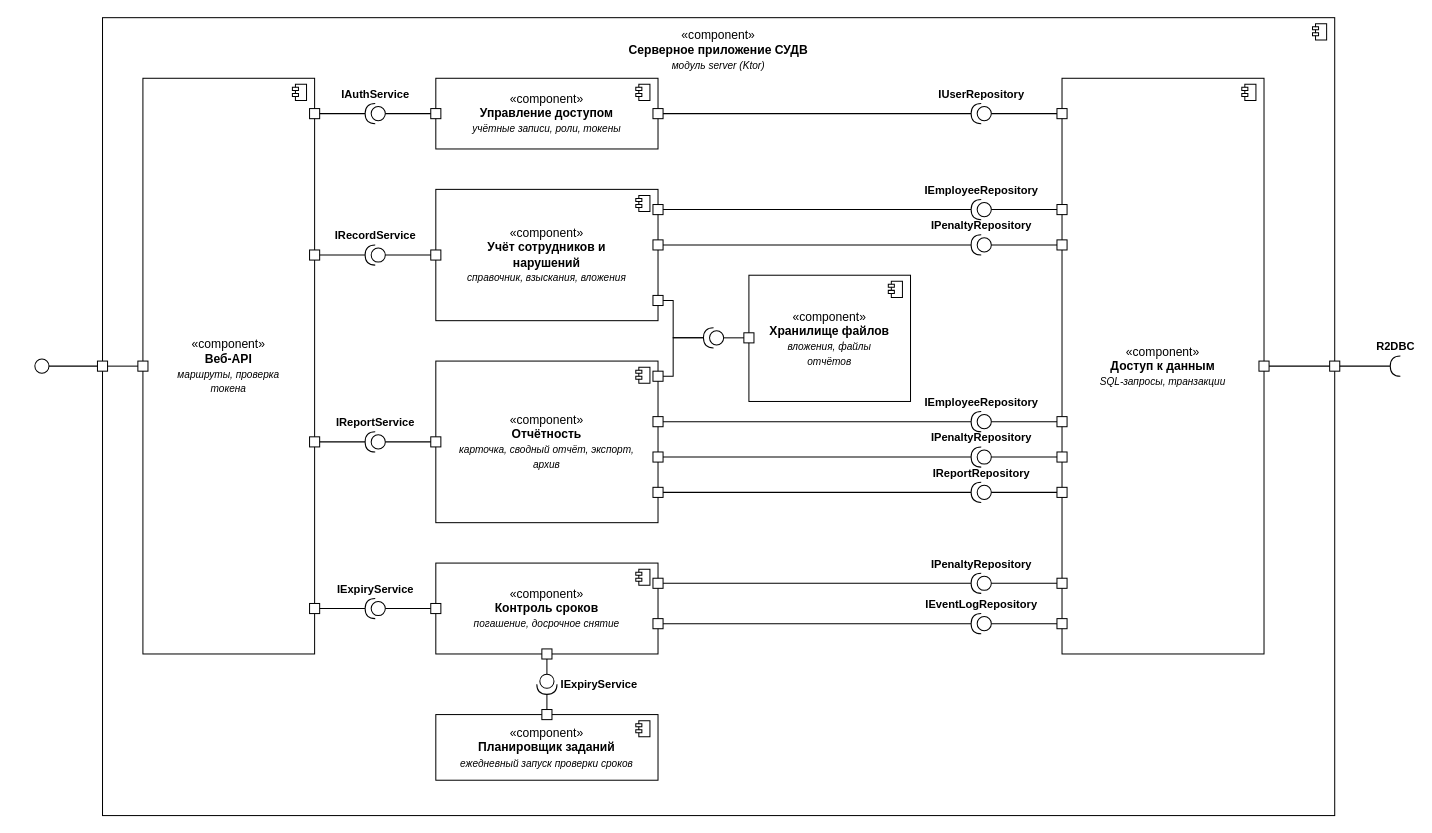
This 1432x833 diagram has some shape labels left out. Each missing label, with the centre of its shape:
IFileStorage: the point at 713,337
ISudvApi: the point at 41,365
